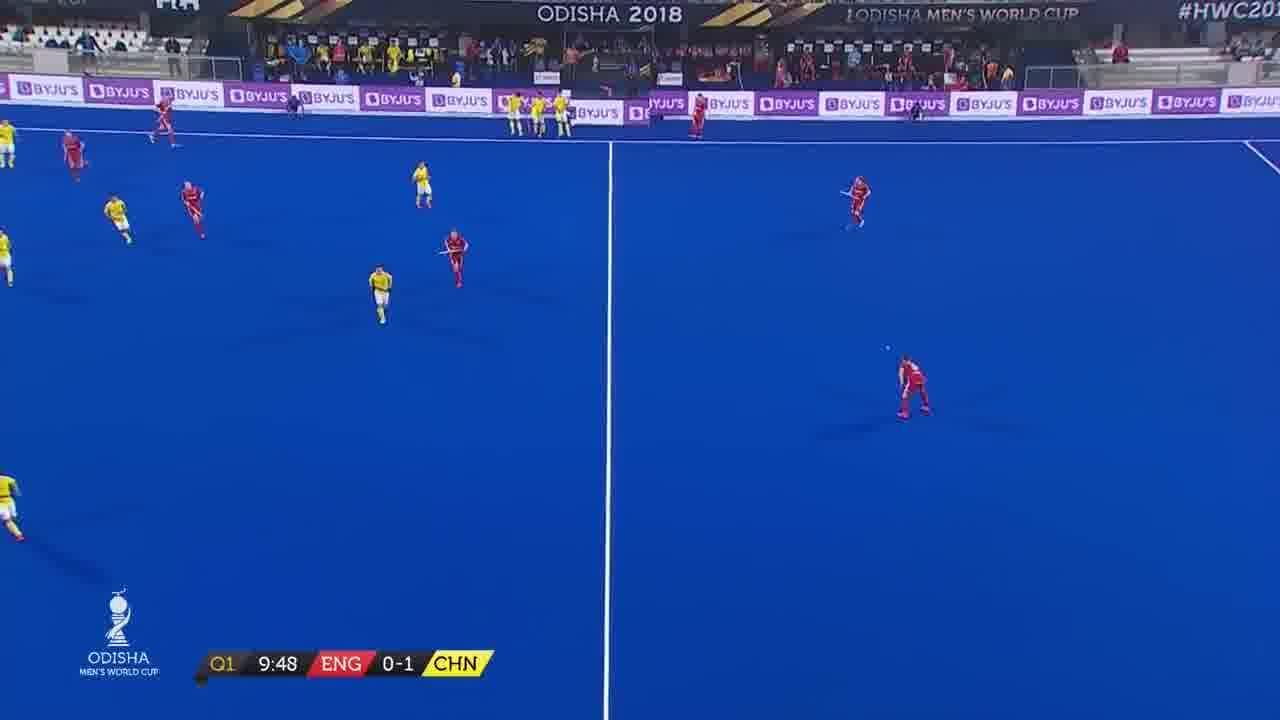ball: (882, 342, 898, 358)
